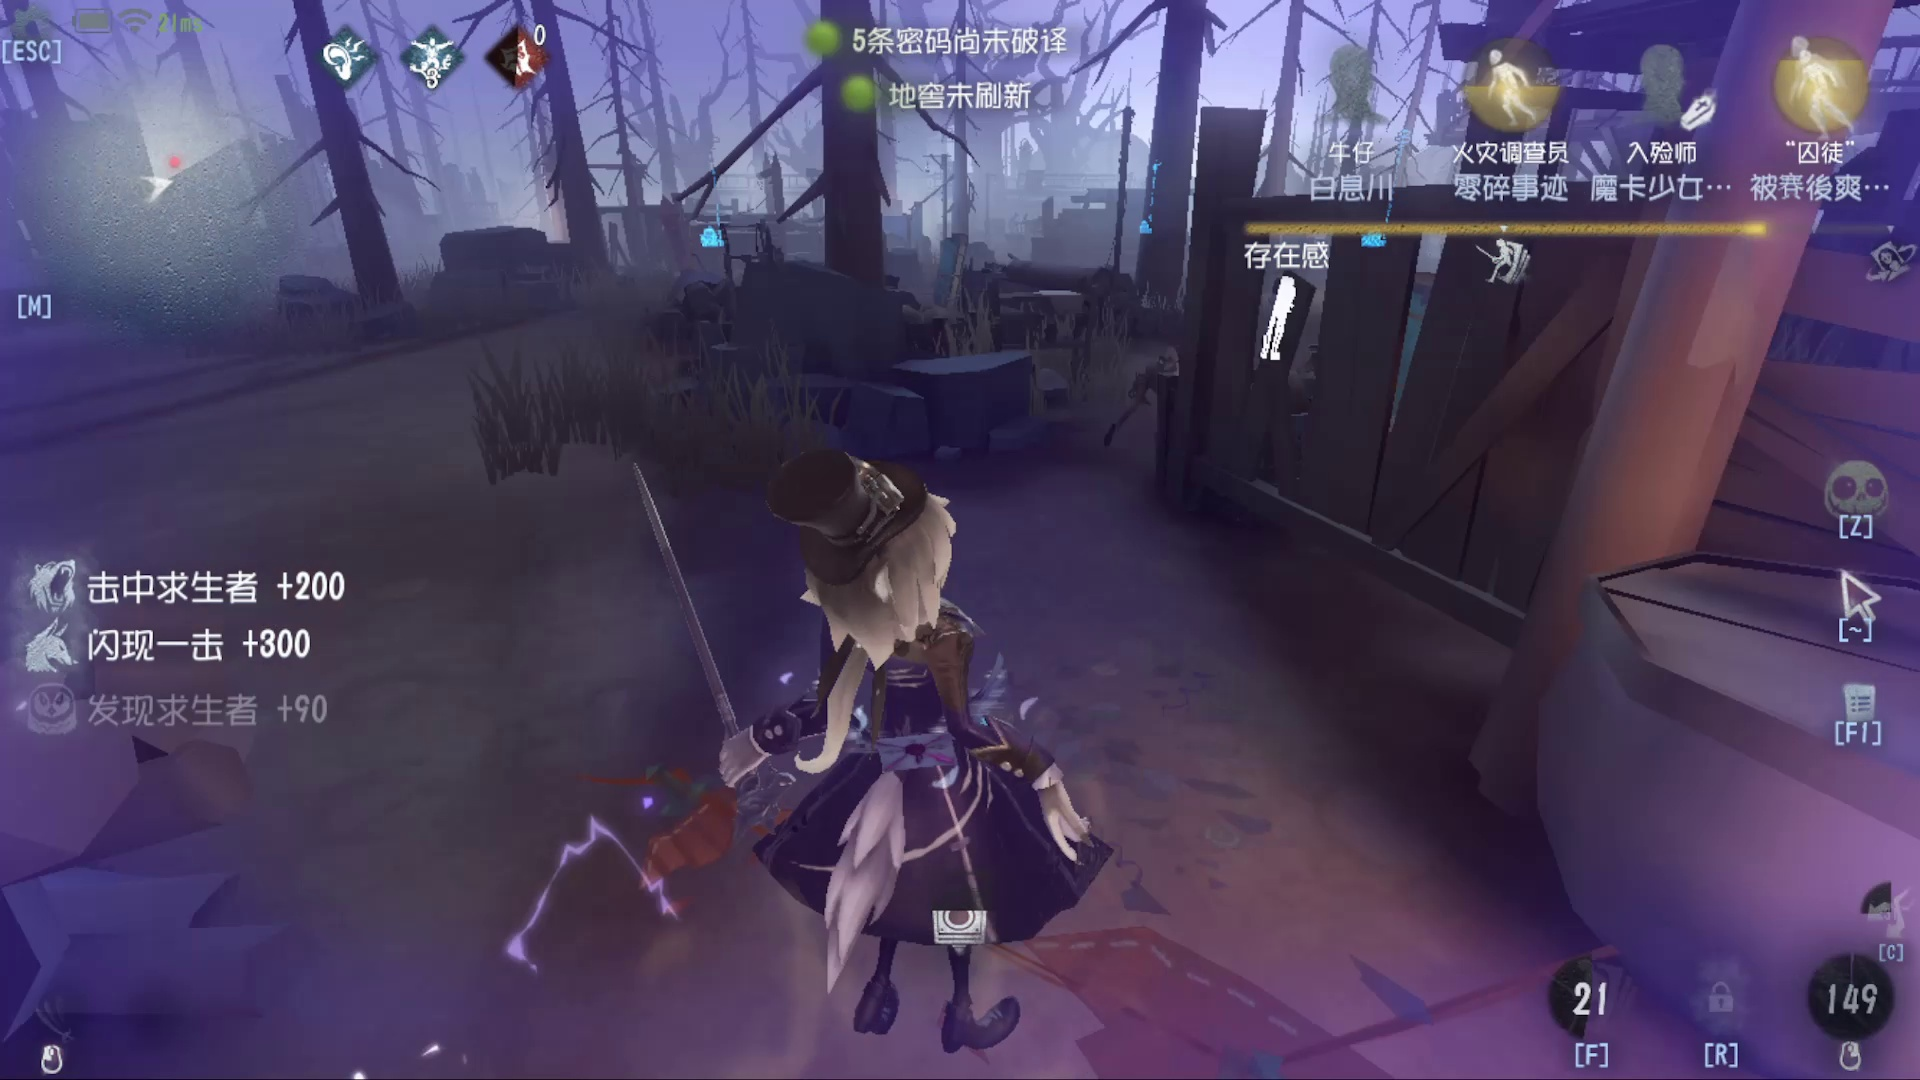密码机: (684, 138, 749, 287), (1116, 152, 1174, 272)
木板: (927, 225, 977, 336)
